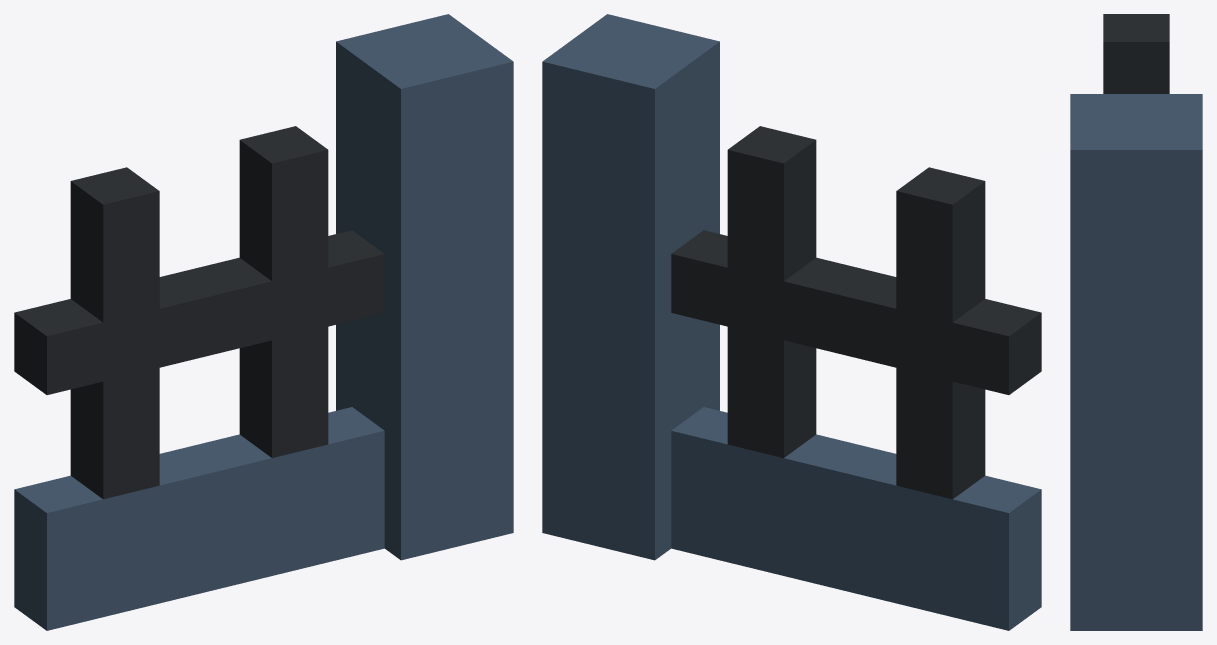
The model's file is iron-fence.obj.
3 views of the same model, side by side, from view 1: azimuth 30°, elevation 25°; view 2: azimuth 150°, elevation 25°; view 3: azimuth 270°, elevation 25° (orthographic). The views are drawn at different scales.
Bounding box in the file's own units: 8 × 8 × 2.
Materials: 1 (1 with a texture image).
